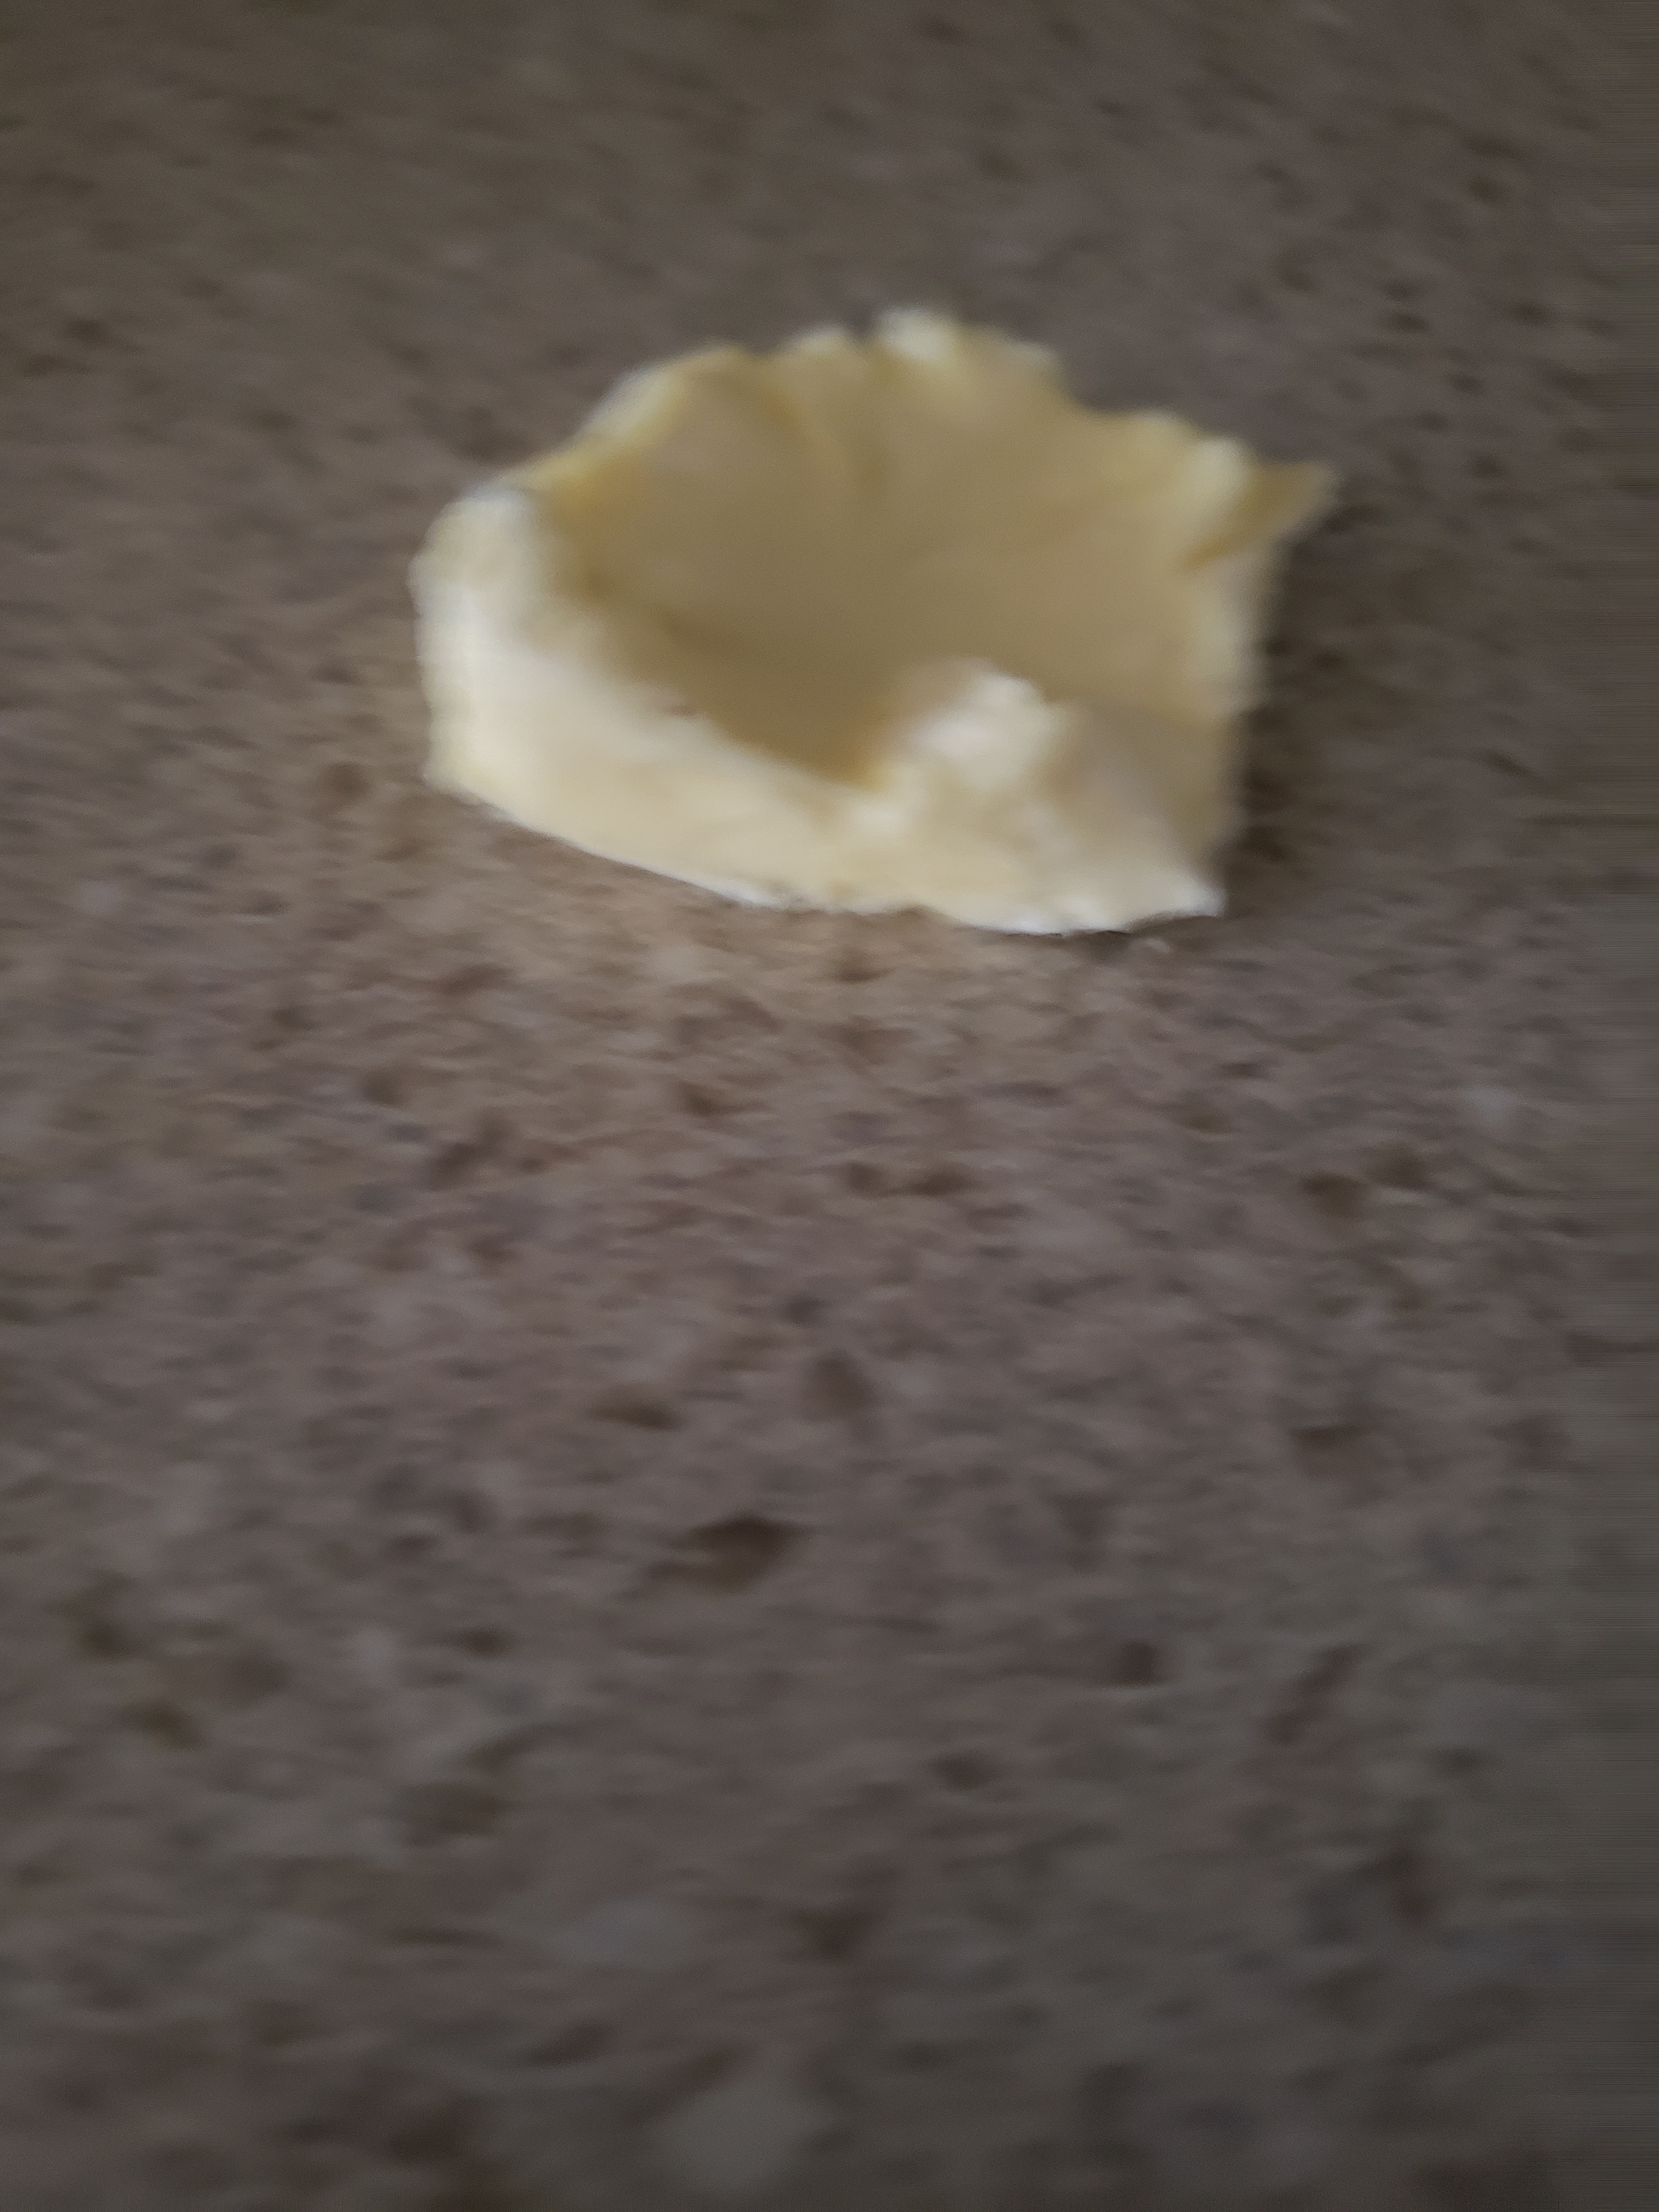Butter: (408, 310, 1340, 925)
